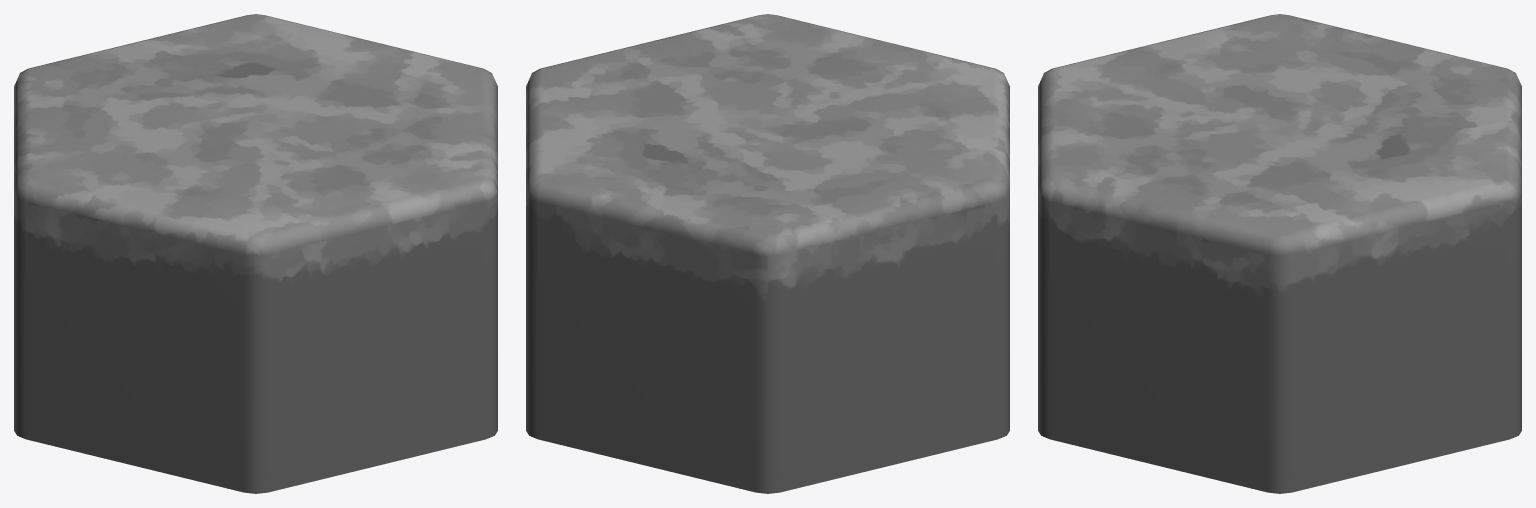
Rendered from Hexagon_Rock.fbx.
The picture shows the model from 3 angles, left to right: view 1: azimuth 30°, elevation 25°; view 2: azimuth 150°, elevation 25°; view 3: azimuth 270°, elevation 25°; orthographic projection.
Parts seen in each view (by area): view 1: Hexagon_Rock; view 2: Hexagon_Rock; view 3: Hexagon_Rock.
Boxes of the visible parts, box(x1,y1,x2,y2) form: Hexagon_Rock: box(14, 14, 497, 493); Hexagon_Rock: box(526, 14, 1009, 493); Hexagon_Rock: box(1038, 14, 1521, 493).
Bounding box in the file's own units: 227 × 115 × 199.
